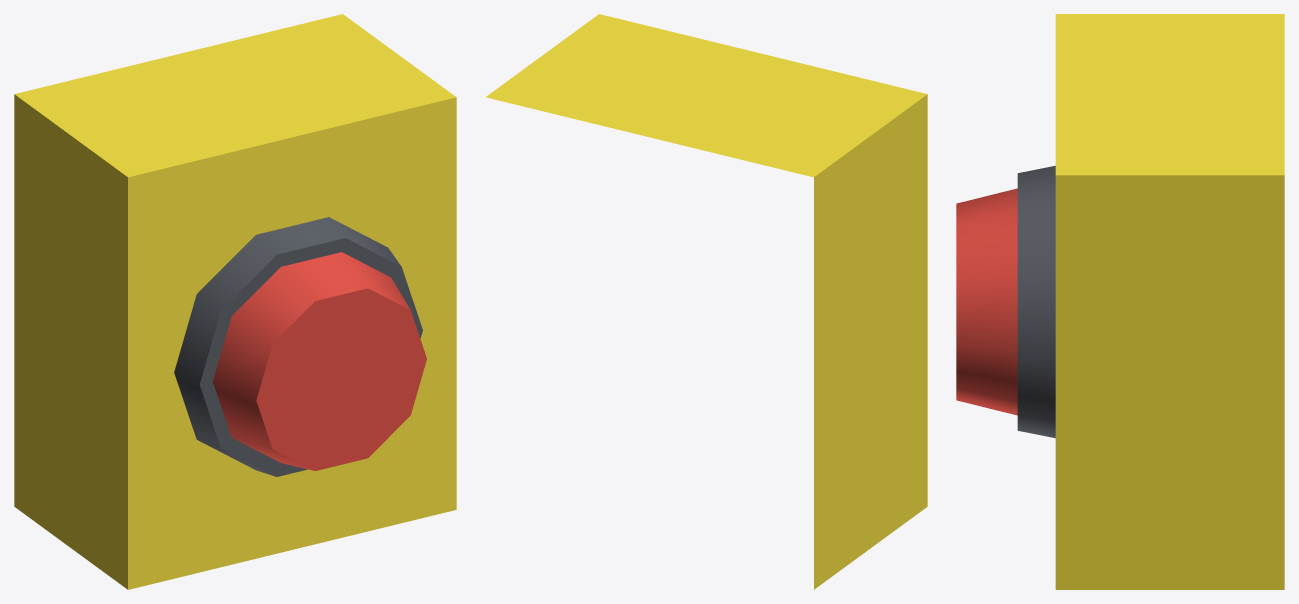
Rendered from fac_estop_enclosure.glb.
3 views of the same model, side by side, from view 1: azimuth 30°, elevation 25°; view 2: azimuth 150°, elevation 25°; view 3: azimuth 270°, elevation 25° (orthographic).
Parts seen in each view (by area): view 1: Body; view 2: Body; view 3: Body.
Boxes of the visible parts, box(x1,y1,x2,y2) form: Body: box(14, 14, 456, 589); Body: box(486, 14, 927, 589); Body: box(956, 14, 1284, 589).
Bounding box in the file's own units: 0.1 × 0.12 × 0.086.
